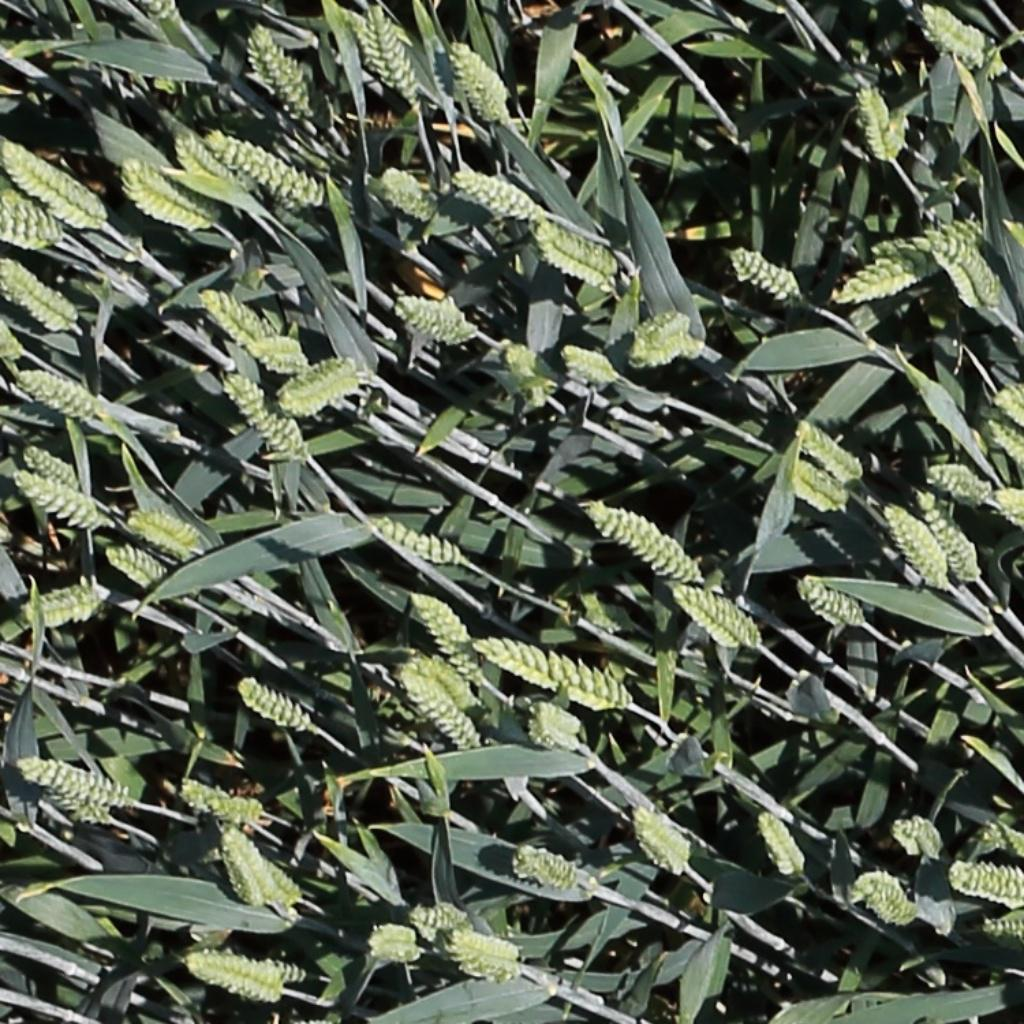0-0: (476, 633, 623, 718), (591, 502, 705, 585), (207, 128, 324, 202), (1, 140, 103, 222), (923, 219, 1006, 318), (409, 587, 488, 689), (223, 372, 307, 460), (402, 669, 484, 756), (248, 23, 316, 125), (187, 943, 306, 1000), (883, 499, 954, 593), (916, 486, 985, 581), (363, 1, 423, 107), (125, 155, 214, 225), (526, 232, 625, 294), (24, 576, 117, 636), (447, 38, 510, 126), (674, 584, 757, 649), (925, 8, 1003, 76), (20, 760, 131, 806), (15, 471, 103, 529), (214, 828, 270, 918), (454, 167, 547, 221), (0, 259, 76, 323), (165, 131, 247, 190), (495, 333, 560, 405), (396, 648, 472, 706), (858, 79, 910, 161), (375, 518, 465, 565), (799, 424, 867, 486), (845, 866, 912, 928), (876, 225, 968, 270), (756, 809, 811, 884), (17, 368, 101, 417), (237, 679, 312, 733), (199, 286, 268, 344), (731, 245, 805, 299), (633, 808, 694, 872), (454, 932, 527, 985), (362, 918, 432, 972), (800, 577, 871, 630), (180, 782, 264, 824), (525, 697, 588, 753), (397, 296, 475, 341), (290, 355, 365, 401), (0, 187, 55, 243), (790, 464, 849, 515), (21, 445, 83, 491), (246, 336, 315, 377), (255, 862, 314, 908), (379, 173, 439, 218), (948, 868, 1024, 903), (128, 513, 197, 551), (925, 465, 993, 503), (408, 888, 468, 931), (838, 268, 920, 299), (981, 411, 1022, 470), (516, 854, 581, 891), (894, 819, 947, 862), (105, 547, 166, 584), (62, 794, 122, 831), (562, 345, 621, 380), (634, 309, 692, 344), (632, 338, 705, 361), (0, 286, 21, 361), (989, 480, 1024, 520), (992, 385, 1022, 431), (981, 921, 1024, 939)
